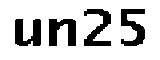2: (81, 5, 113, 49)
5: (120, 6, 150, 51)
n: (47, 16, 78, 48)
u: (11, 14, 43, 52)
